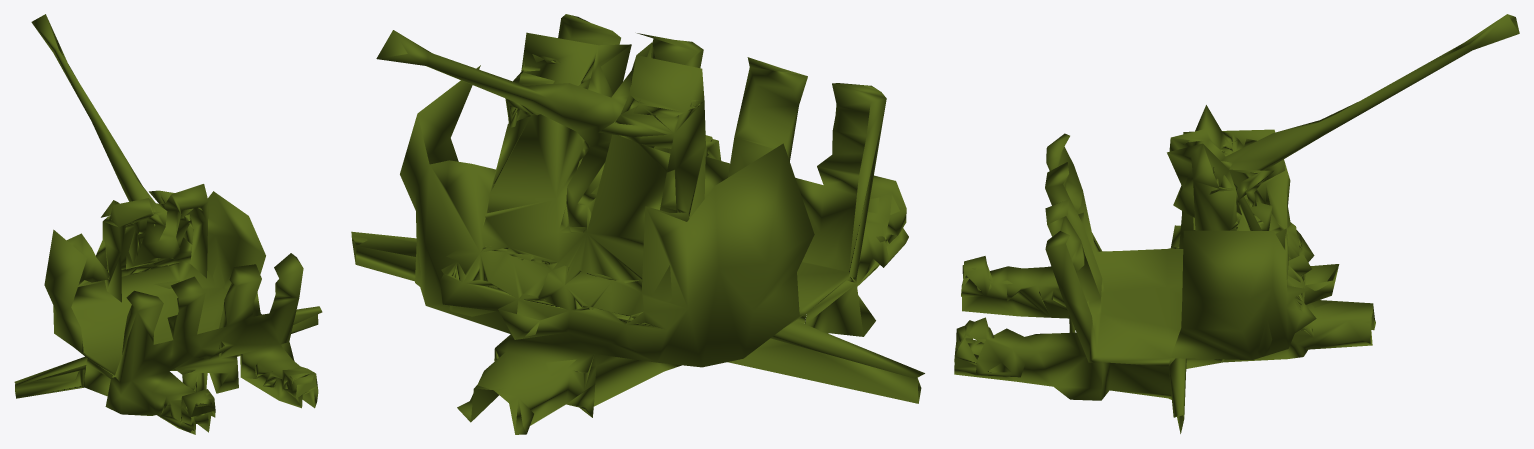
Rendered from 40mmBoforsLOD0.glb.
The picture shows the model from 3 angles, left to right: view 1: azimuth 30°, elevation 25°; view 2: azimuth 150°, elevation 25°; view 3: azimuth 270°, elevation 25°; orthographic projection. The views are drawn at different scales.
Parts seen in each view (by area): view 1: tripo_node_43c82c82; view 2: tripo_node_43c82c82; view 3: tripo_node_43c82c82.
Boxes of the visible parts, x1,y1,x2,y2 form: tripo_node_43c82c82: (14, 14, 322, 434); tripo_node_43c82c82: (351, 14, 924, 434); tripo_node_43c82c82: (954, 14, 1519, 433).
Size of the model in its own units: 7.63 by 6.2 by 9.47.
